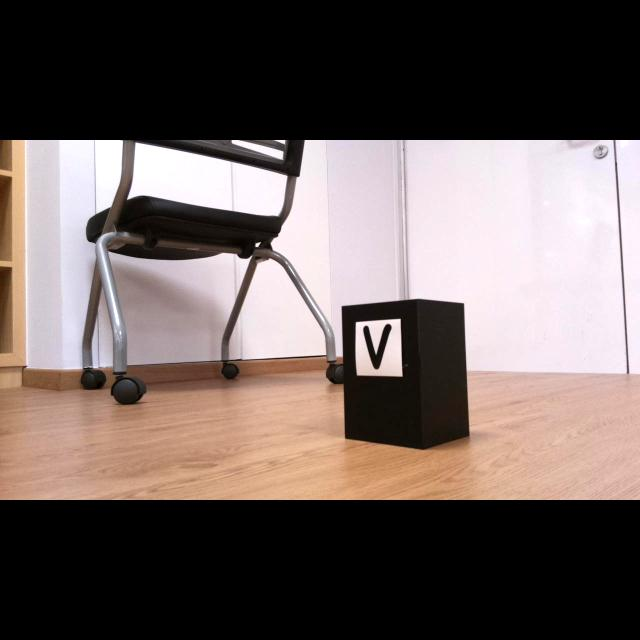V: (363, 324, 392, 370)
